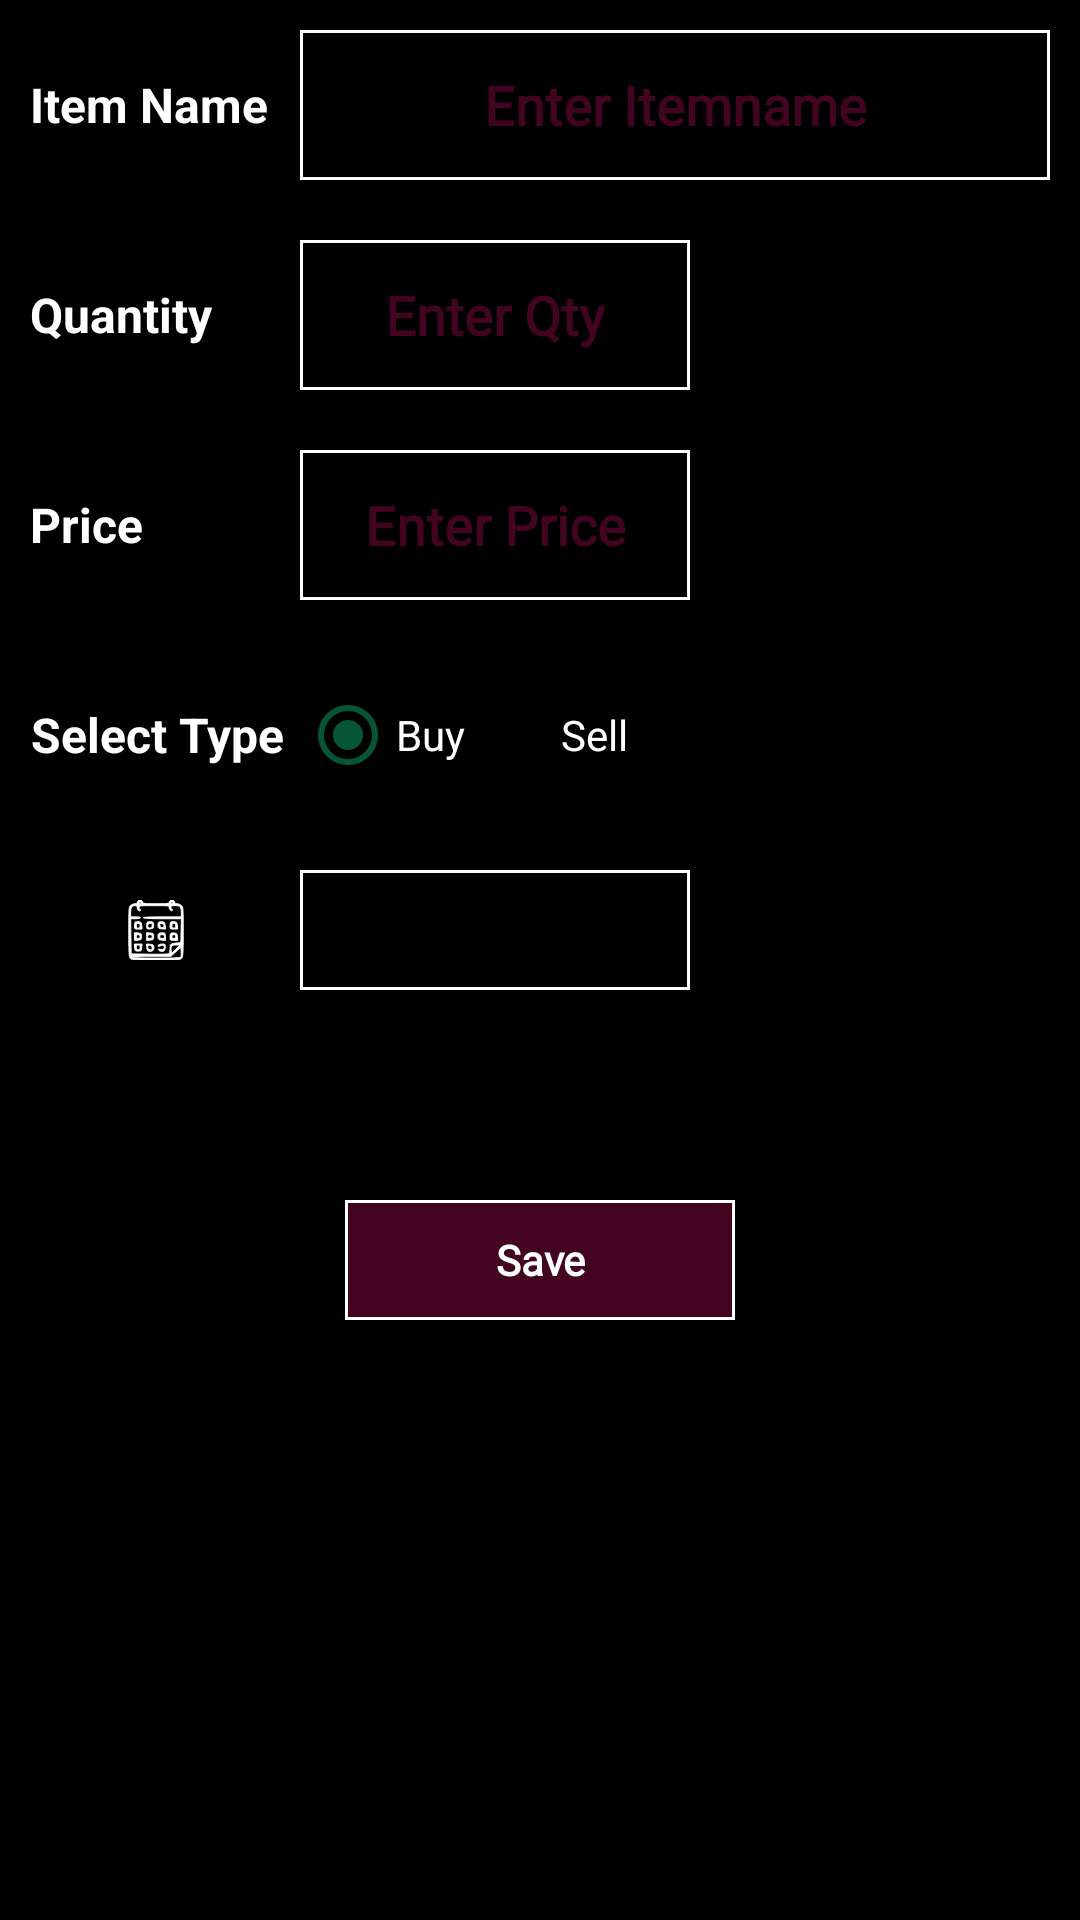

Locate icon controls on the screen. Image size 1080*1920, boxes as (x1, y1, x2, y2).
calendar: (128, 900, 184, 960)
